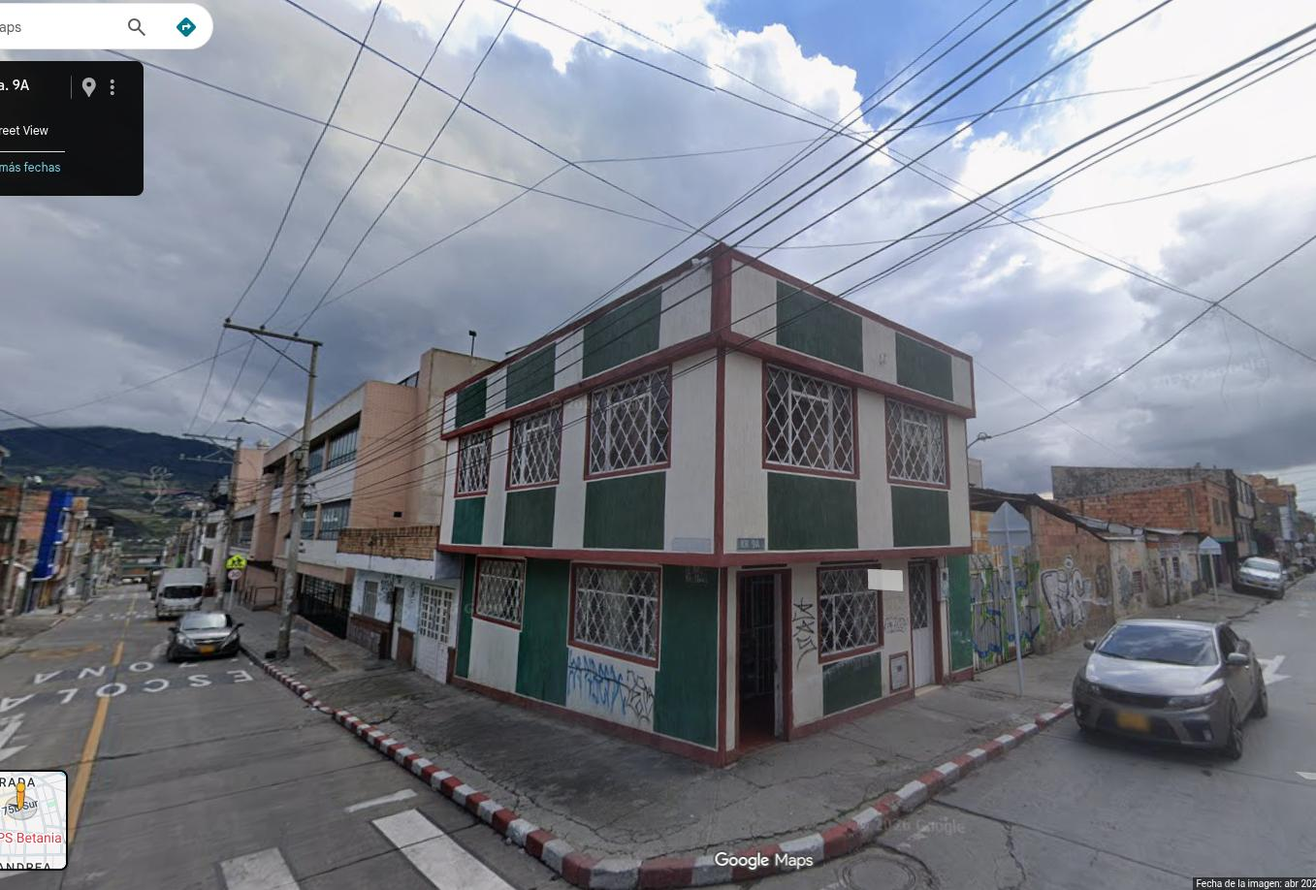casa: (436, 245, 975, 762), (336, 526, 457, 679)
poste: (225, 321, 321, 659)
